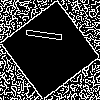I: (25, 25, 73, 46)
